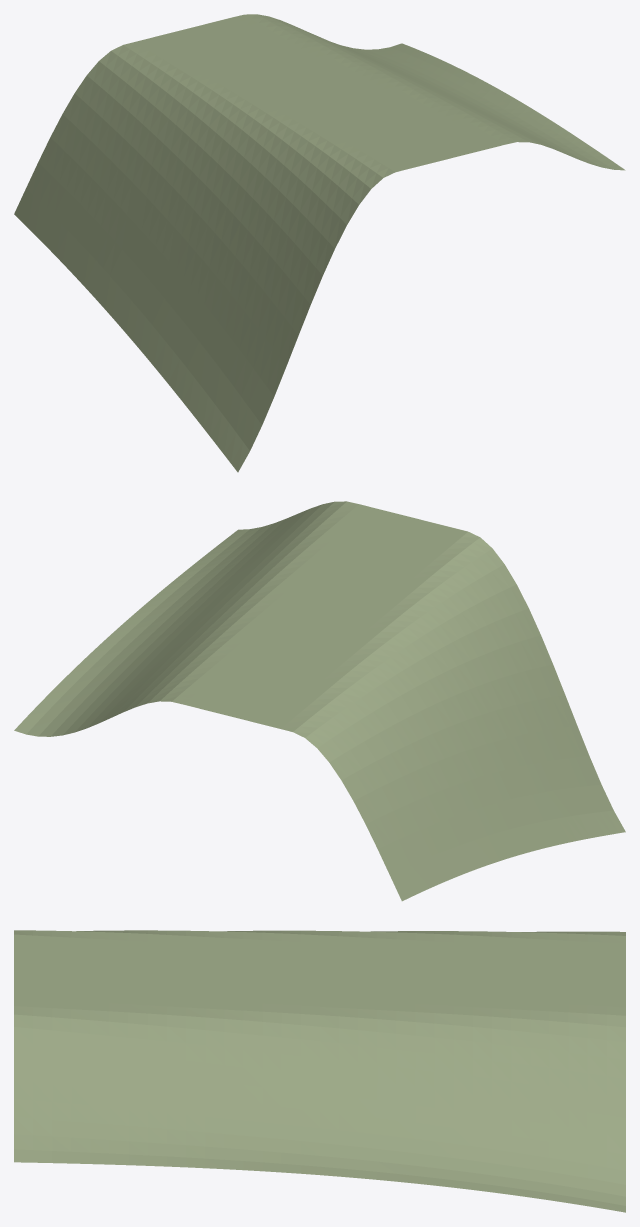
The model's file is alpine-12-9.glb.
3 renders of one model, top to bottom at view 1: azimuth 30°, elevation 25°; view 2: azimuth 150°, elevation 25°; view 3: azimuth 270°, elevation 25°, orthographic. The views are drawn at different scales.
Visible parts, largest first — view 1: alpine-12-9; view 2: alpine-12-9; view 3: alpine-12-9.
Boxes of the visible parts, x1=… form: alpine-12-9: x1=14, y1=14, x2=625, y2=472; alpine-12-9: x1=14, y1=501, x2=625, y2=901; alpine-12-9: x1=14, y1=930, x2=625, y2=1212.
Bounding box in the file's own units: 256 × 166 × 256.
